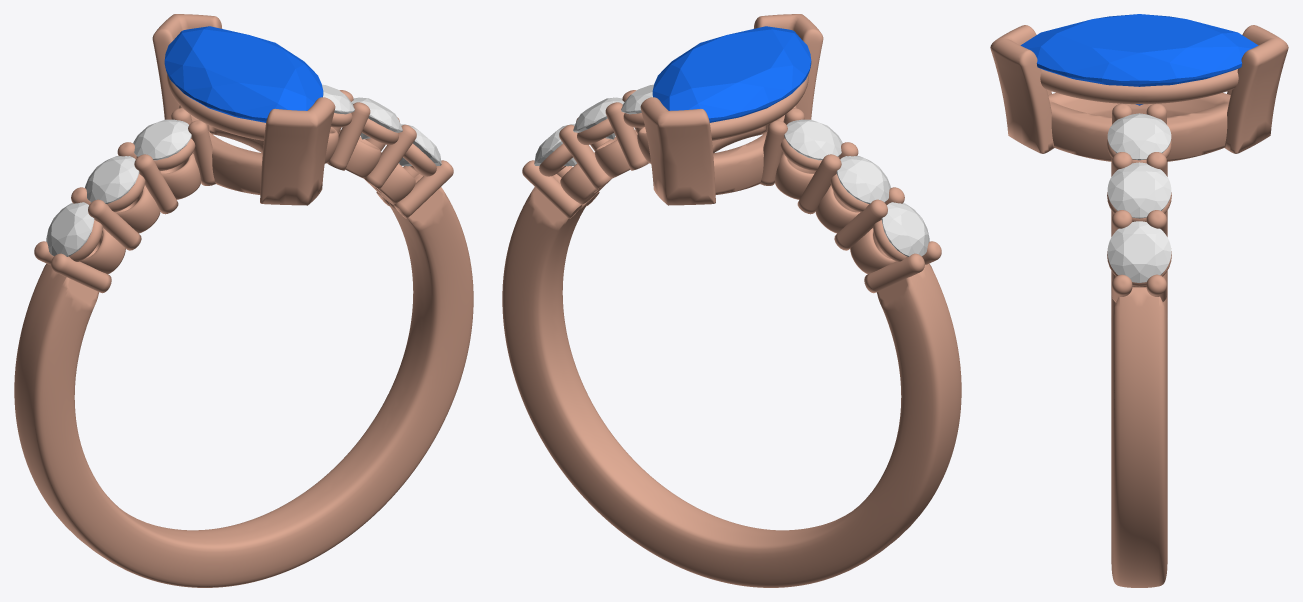
Rendered from bluesapphire-marquise-rosegold-protectededges2prongs-straightband-7stone.glb.
3 renders of one model, left to right at view 1: azimuth 30°, elevation 25°; view 2: azimuth 150°, elevation 25°; view 3: azimuth 270°, elevation 25°, orthographic. The views are drawn at different scales.
Visible parts, largest first — view 1: metal, stone, side, side.003, side.004, side.006; view 2: metal, stone, side, side.003, side.004, side.006; view 3: metal, stone, side.005, side.006, side.007.
Part boxes in pixels (<box>): metal: <box>14,14,473,587</box>; stone: <box>164,26,323,122</box>; side: <box>46,202,94,256</box>; side.003: <box>85,156,139,203</box>; side.004: <box>133,119,191,160</box>; side.006: <box>351,97,402,139</box>; metal: <box>502,14,961,587</box>; stone: <box>652,26,811,122</box>; side: <box>881,202,929,256</box>; side.003: <box>836,156,890,203</box>; side.004: <box>784,119,842,160</box>; side.006: <box>573,97,624,139</box>; metal: <box>990,25,1288,587</box>; stone: <box>1020,14,1258,105</box>; side.005: <box>1107,221,1171,282</box>; side.006: <box>1107,162,1171,218</box>; side.007: <box>1107,113,1171,160</box>.
Bounding box in the file's own units: 20.5 × 22.94 × 11.69.
